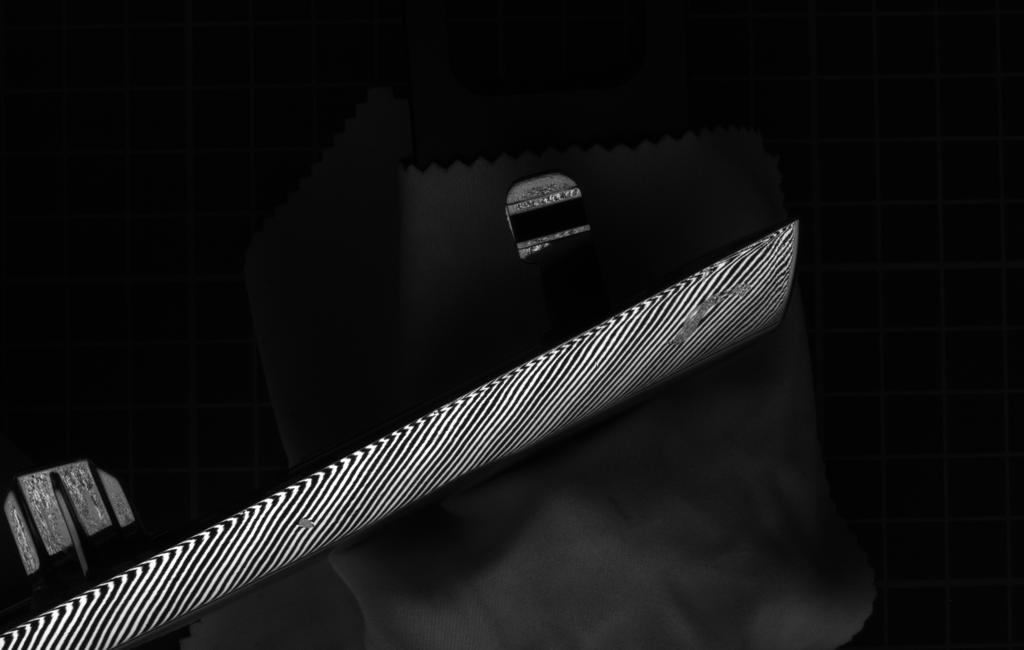Pierced: (293, 512, 319, 534)
Scratch: (667, 279, 754, 350)
